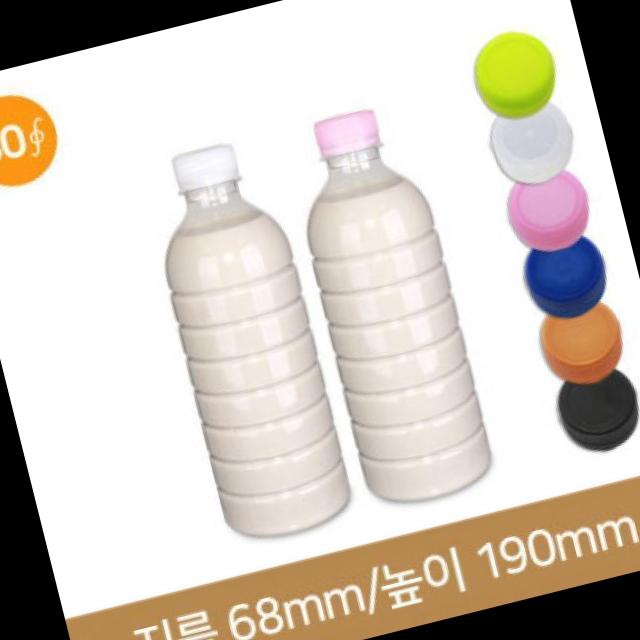plastic_bottle: (134, 134, 362, 550), (277, 99, 502, 515)
